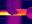Hotspot: (0, 11, 10, 15)
